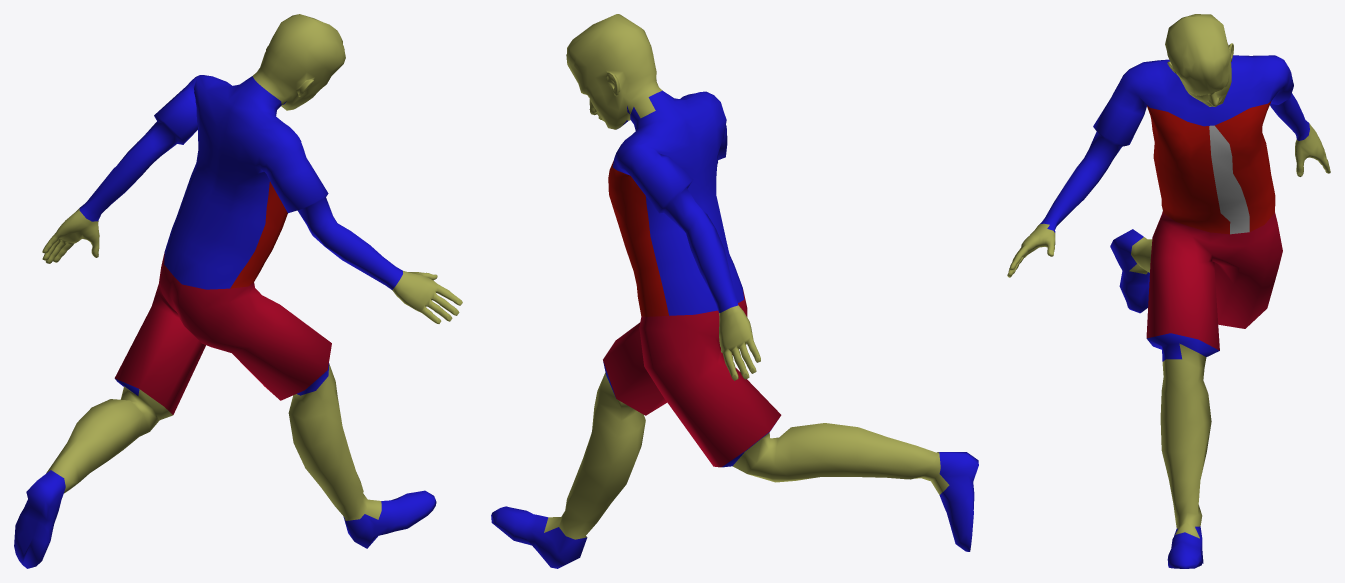
File: player_000031.obj
The picture shows the model from 3 angles, left to right: view 1: azimuth 30°, elevation 25°; view 2: azimuth 150°, elevation 25°; view 3: azimuth 270°, elevation 25°; orthographic projection. The views are drawn at different scales.
Parts seen in each view (by area): view 1: soccerplayer_mesh; view 2: soccerplayer_mesh; view 3: soccerplayer_mesh.
Part boxes in pixels (x1,y1,x2,y2): soccerplayer_mesh: [14, 14, 462, 568]; soccerplayer_mesh: [491, 14, 978, 568]; soccerplayer_mesh: [1007, 14, 1330, 568].
Bounding box in the file's own units: 4.09 × 4.78 × 2.68.
